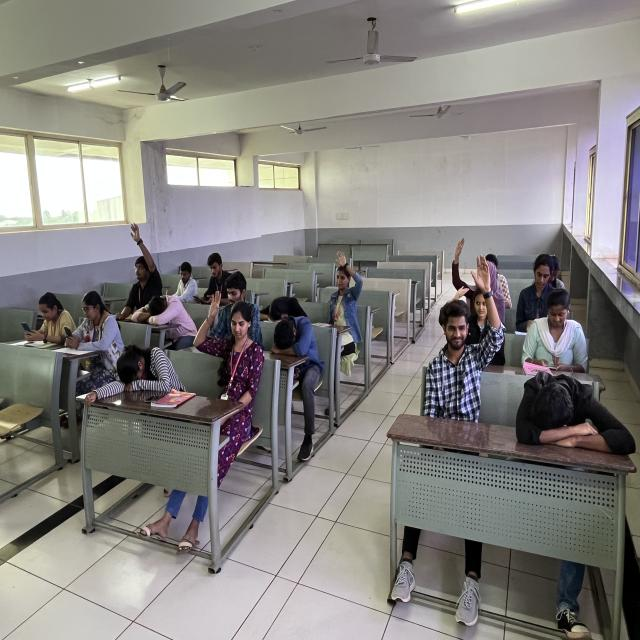Hand Rising: (422, 264, 497, 425), (193, 288, 261, 406), (448, 234, 506, 334), (324, 240, 368, 356), (118, 209, 164, 303)
Sleeping: (507, 358, 633, 466), (84, 344, 187, 402), (268, 309, 327, 386), (258, 276, 306, 326), (130, 288, 193, 326)
Using Phone: (511, 281, 602, 376), (60, 284, 126, 355), (187, 215, 239, 305), (13, 276, 70, 342)
